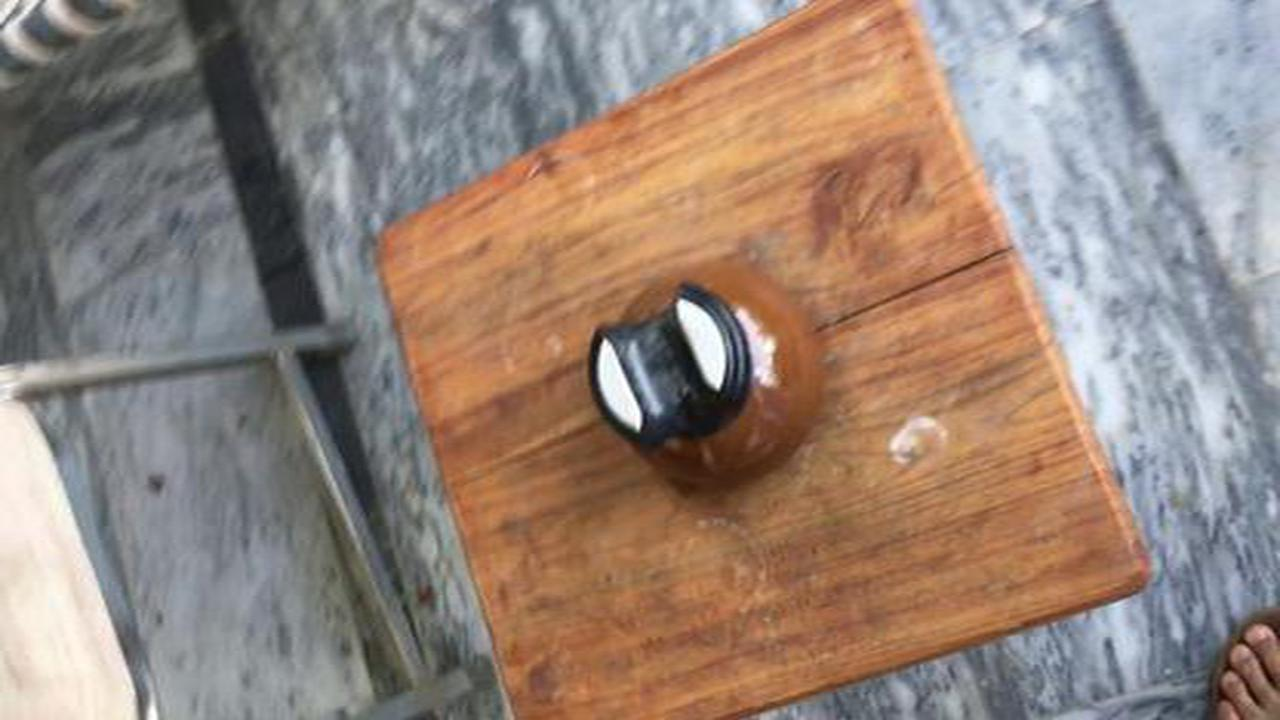insulator_pin: (570, 256, 853, 511)
